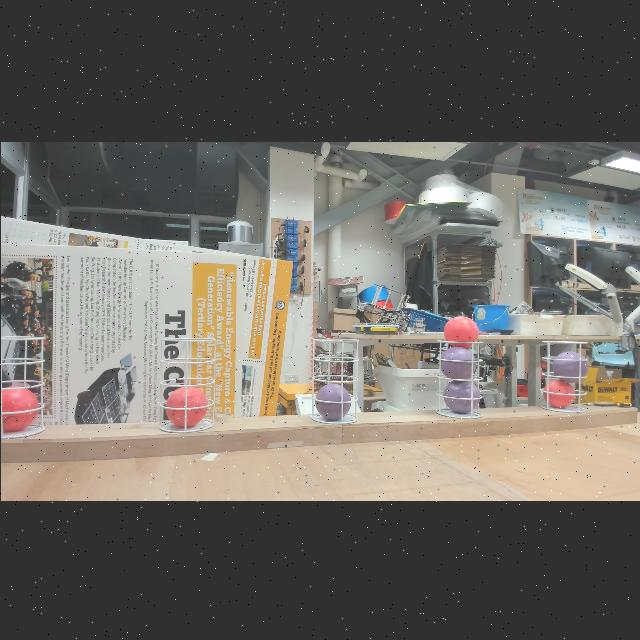P: (314, 382, 351, 420), (438, 344, 476, 380), (442, 378, 480, 412), (552, 350, 588, 382)
R: (0, 384, 38, 432), (165, 385, 208, 427), (442, 314, 478, 348), (542, 378, 574, 408)
S: (157, 336, 215, 432), (0, 334, 46, 440), (309, 336, 359, 424), (433, 337, 483, 419), (540, 338, 588, 412)
